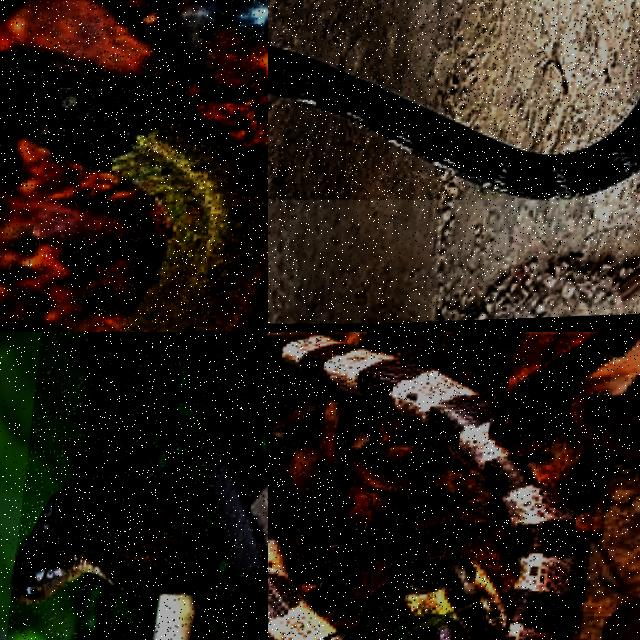Bungarus candidus: (278, 336, 580, 639)
Calliophis maculiceps: (0, 54, 267, 331)
Naja kaouthia: (198, 332, 267, 639)
Ophiophagus hannah: (268, 46, 639, 200)
snake: (278, 336, 580, 639), (0, 54, 267, 331), (268, 46, 639, 200), (198, 332, 267, 639)
